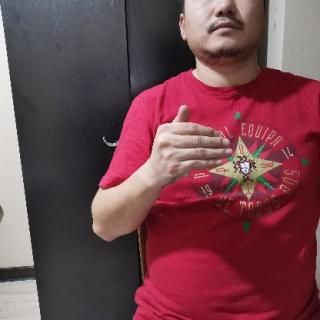KHAA: (145, 103, 238, 180)
